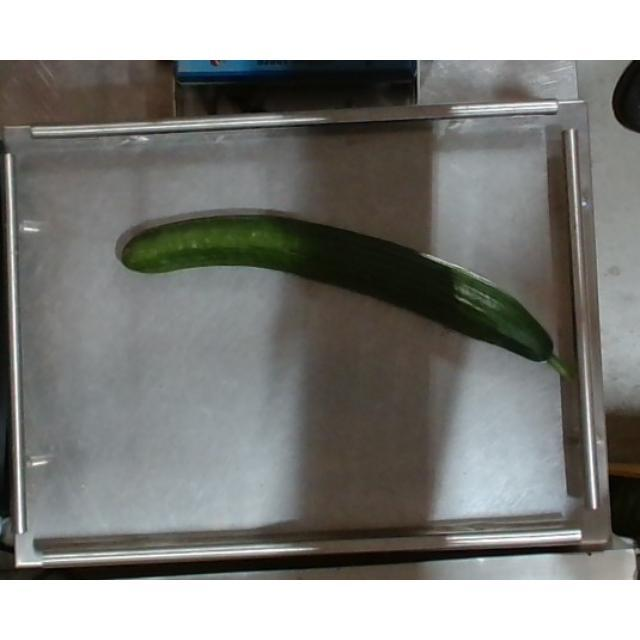cucumber: (120, 216, 572, 384)
